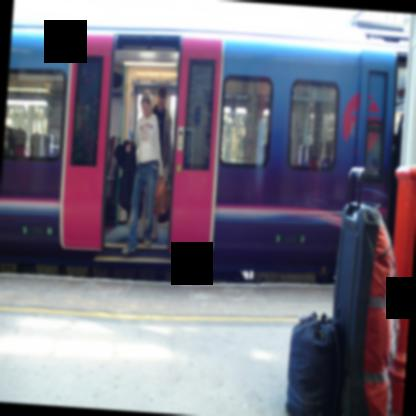backpack: (283, 314, 342, 416)
handbag: (153, 176, 170, 214)
suitcase: (331, 165, 399, 416)
